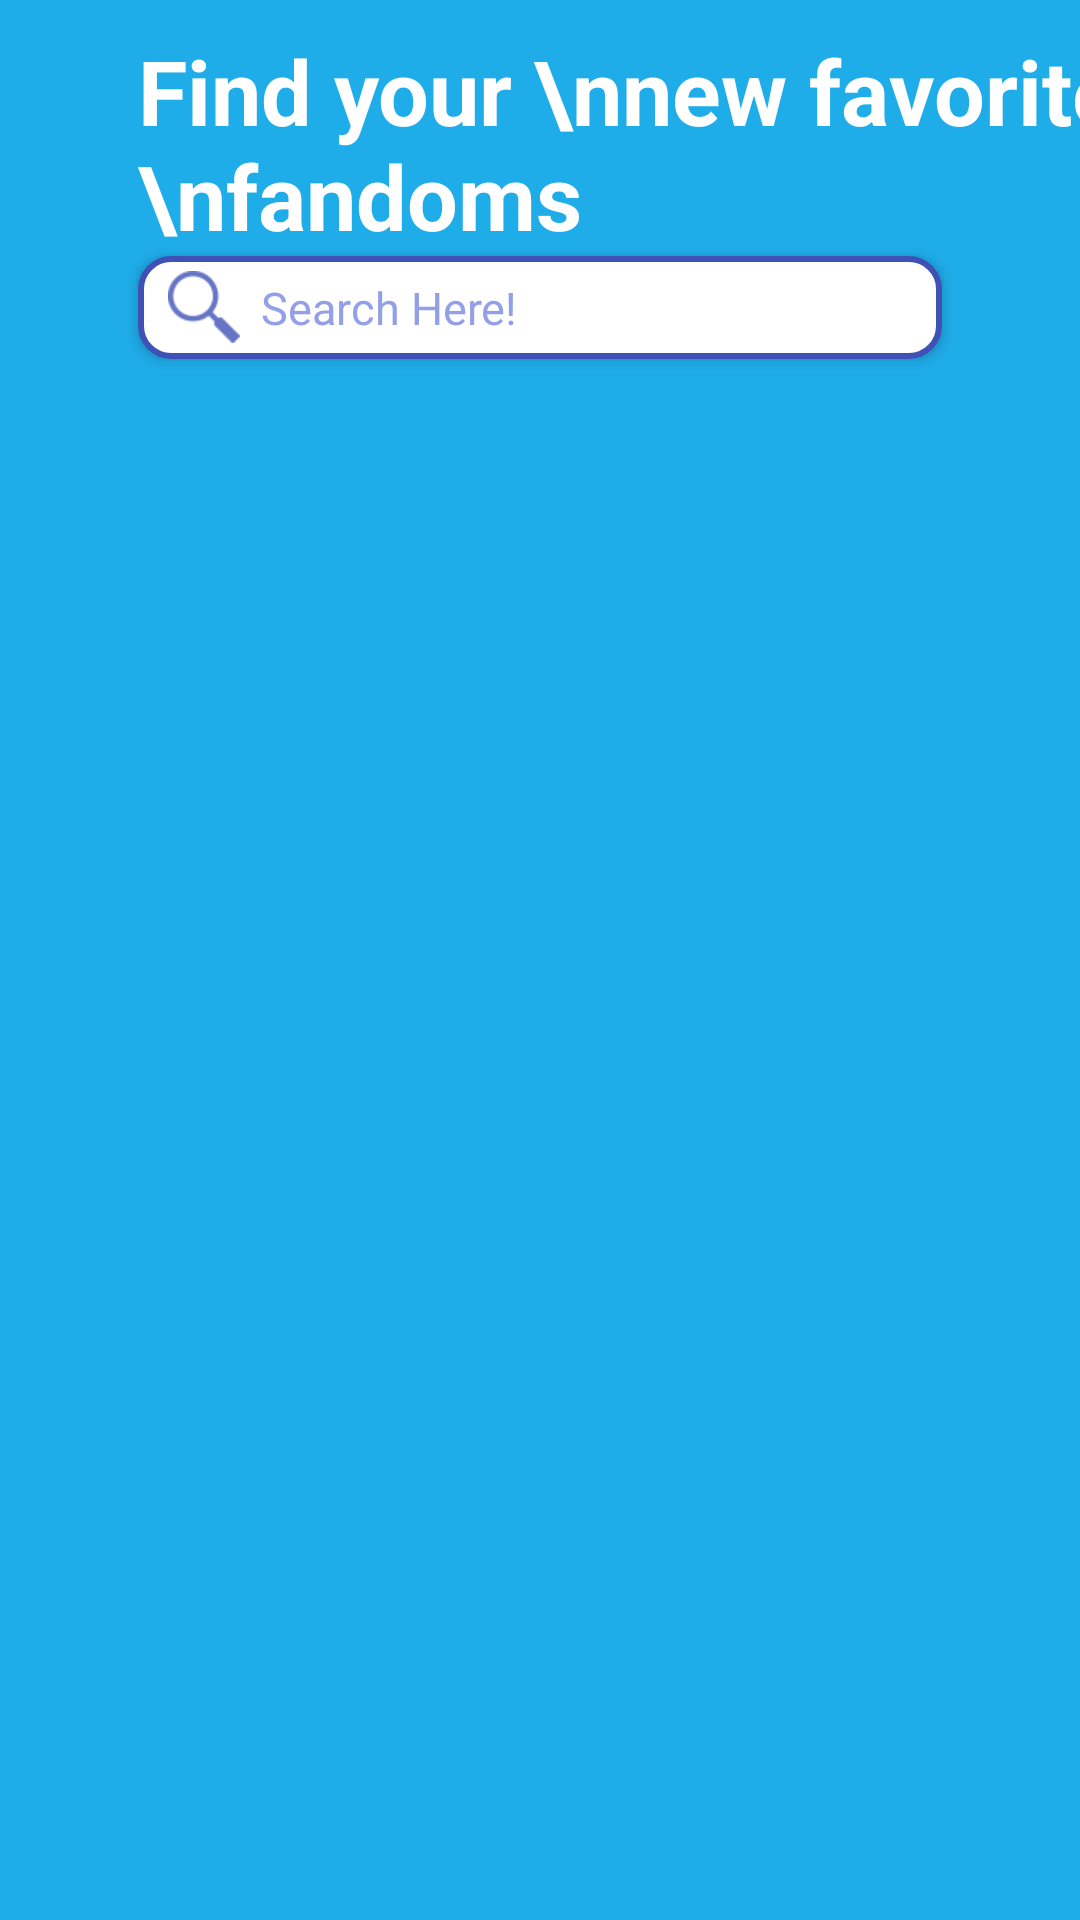

Icon bounding boxes for this 1080 x 1920 phone screenshot, format (x1,y1,x2,y2):
search bar: (168,271,240,343)
